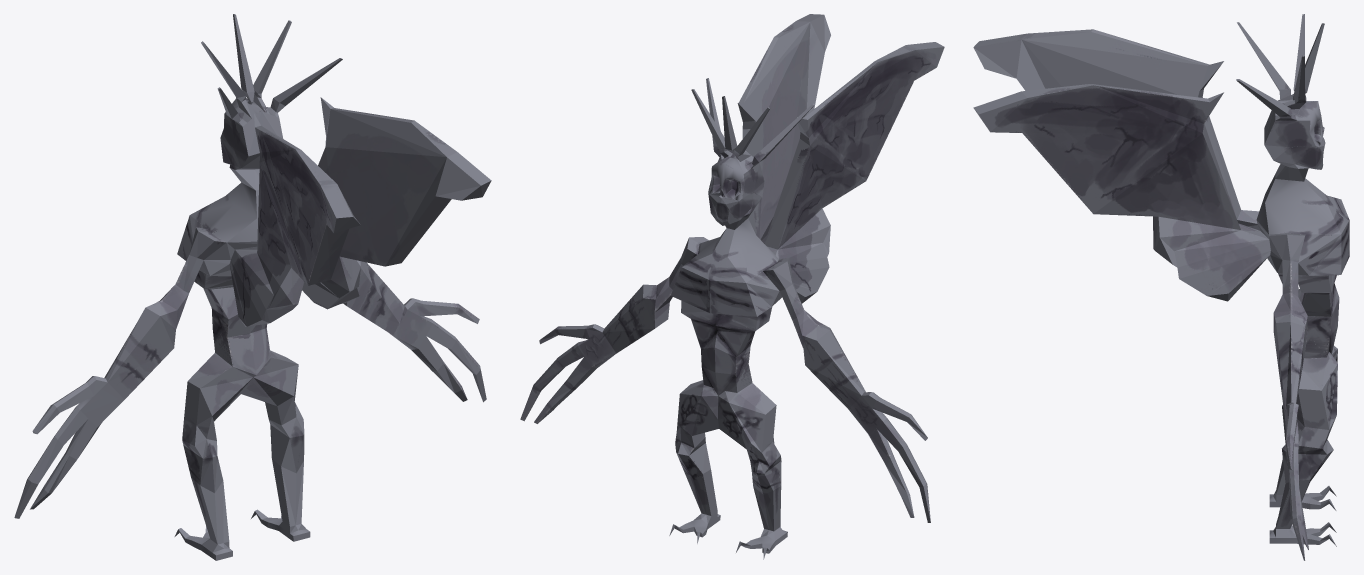
File: Gargo.FBX
The picture shows the model from 3 angles, left to right: view 1: azimuth 30°, elevation 25°; view 2: azimuth 150°, elevation 25°; view 3: azimuth 270°, elevation 25°; orthographic projection. The views are drawn at different scales.
Visible parts, largest first — view 1: Box004; view 2: Box004; view 3: Box004.
Part boxes in pixels (box(x1,y1,x2,y2)): Box004: box(14, 14, 491, 560); Box004: box(520, 14, 944, 559); Box004: box(973, 14, 1349, 560).
Bounding box in the file's own units: 53.02 × 55.38 × 37.91.
Materials: 1 (1 with a texture image).
